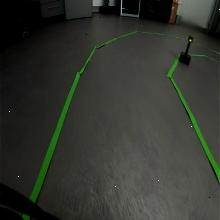green: (188, 34, 194, 43)
